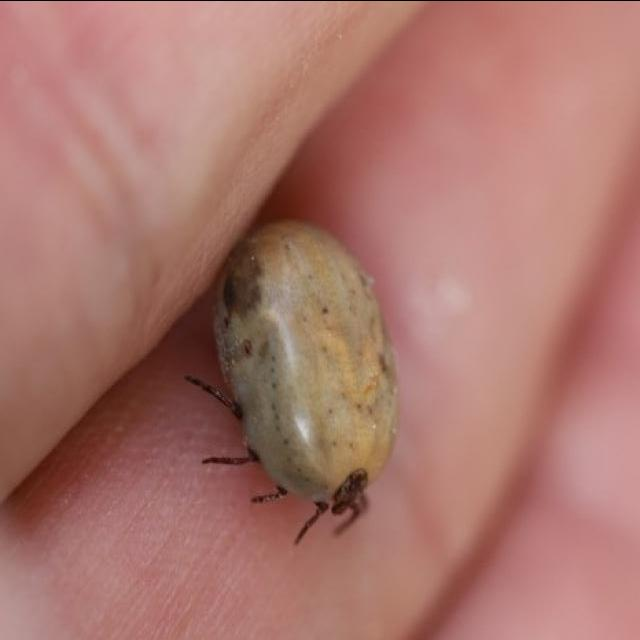Dermacentor Reticulatus-F-Fed: (183, 221, 398, 547)
